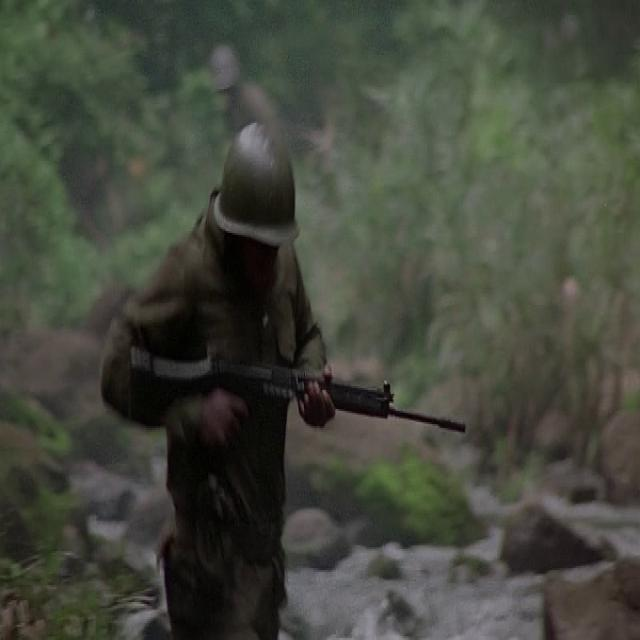rifle: (126, 337, 477, 450)
